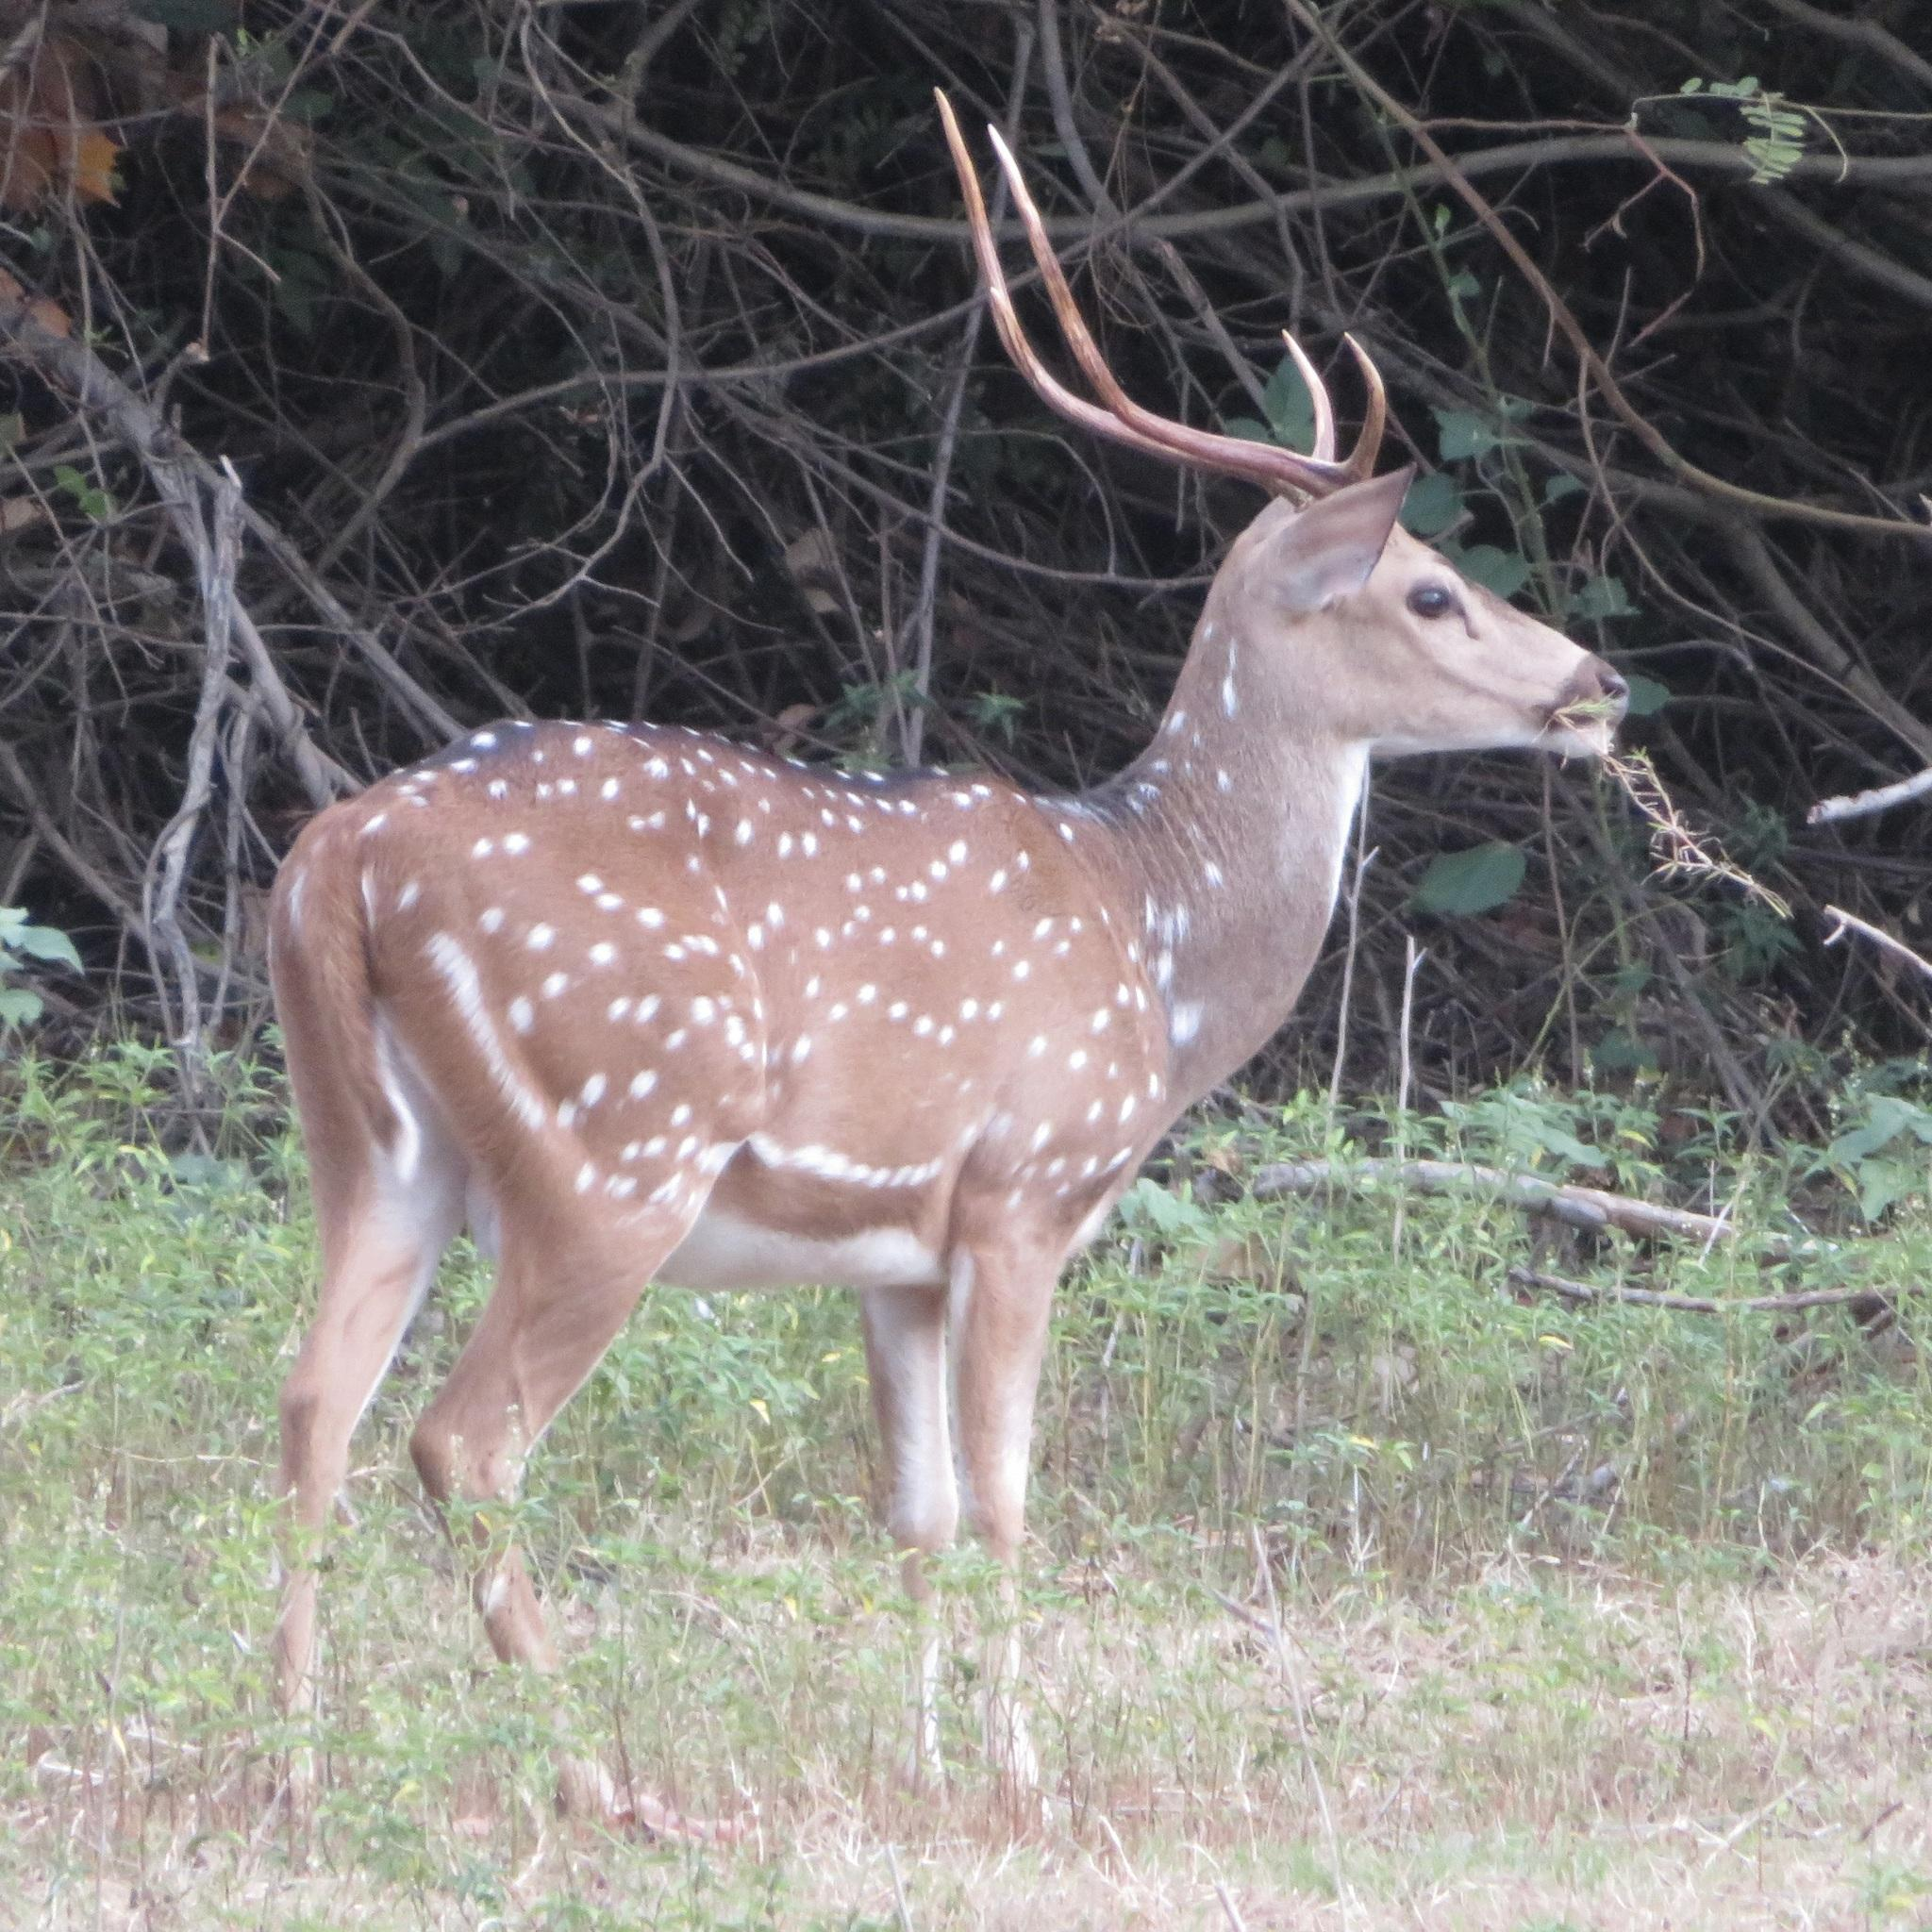Deer: (269, 94, 1628, 1555)
